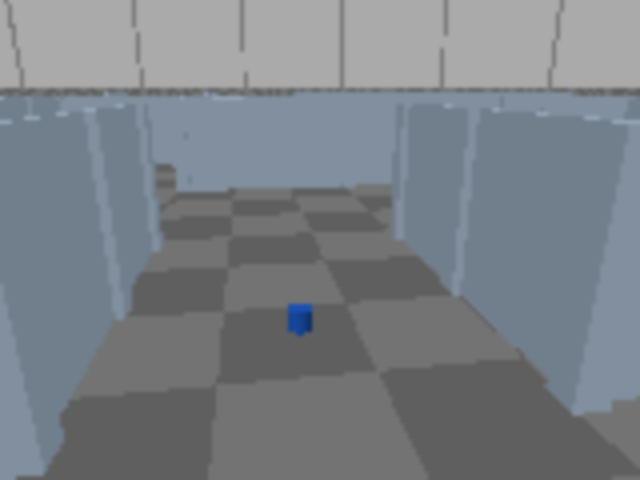puck: (290, 304, 308, 333)
